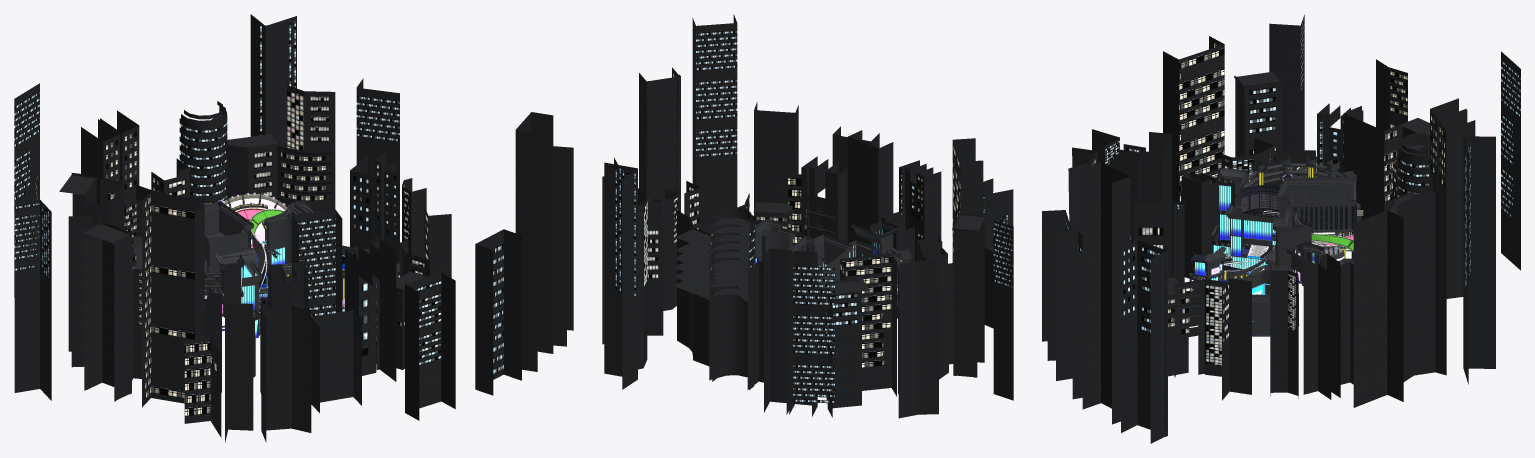
File: track7.glb
3 views of the same model, side by side, from view 1: azimuth 30°, elevation 25°; view 2: azimuth 150°, elevation 25°; view 3: azimuth 270°, elevation 25° (orthographic). The views are drawn at different scales.
Visible parts, largest first — view 1: Object_52, Object_18, Object_53, Object_54, Object_29, Object_17; view 2: Object_52, Object_18, Object_53, Object_54; view 3: Object_52, Object_18, Object_54, Object_53, Object_51, Object_29, Object_22, Object_23.
Boxes of the visible parts, x1,y1,x2,y2 form: Object_52: (14,14,573,442); Object_18: (14,20,503,416); Object_53: (132,193,399,337); Object_54: (133,194,370,327); Object_29: (241,247,284,338); Object_17: (204,198,285,328); Object_52: (602,14,1013,418); Object_18: (615,30,1013,403); Object_53: (755,223,911,315); Object_54: (755,219,910,299); Object_52: (1042,14,1520,443); Object_18: (1065,17,1520,365); Object_54: (1200,155,1360,336); Object_53: (1189,163,1361,325); Object_51: (1189,164,1356,291); Object_29: (1195,185,1314,321); Object_22: (1188,194,1343,279); Object_23: (1203,193,1345,277).
Size of what is drawn, in the model's own units: 13198 by 6241 by 11186.
46 materials, 40 textured.
